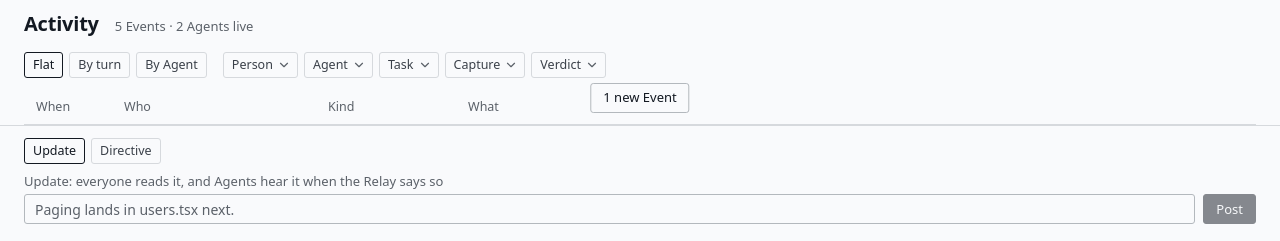
Test: new Events, regrouped › are cleared when a new grouping starts the log at the newest again
This screenshot has width=1280, height=241.
Expected: the button "1 new Event" is shown, left=590, top=82, right=690, bottom=112
Click the button "By Agent" at (171, 65), box left=136, top=52, right=207, bottom=78
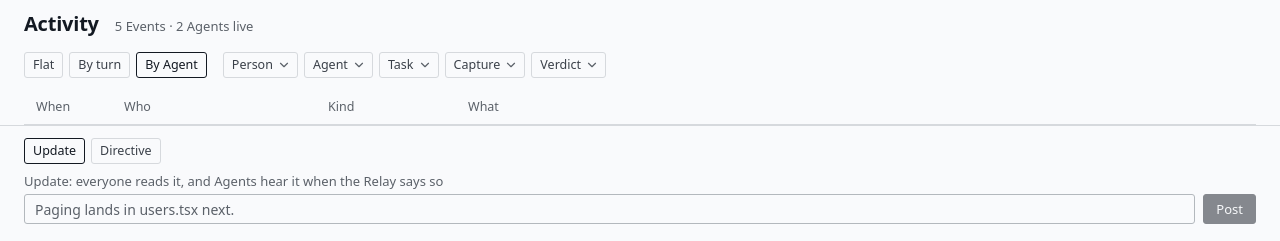
Expected: the button "new Event" is gone
